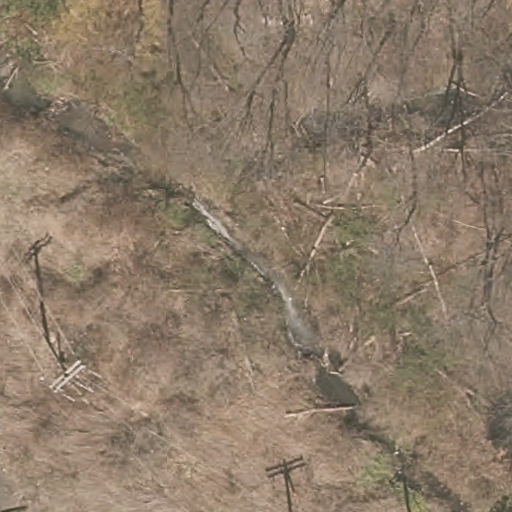DT: (49, 359, 87, 395)
